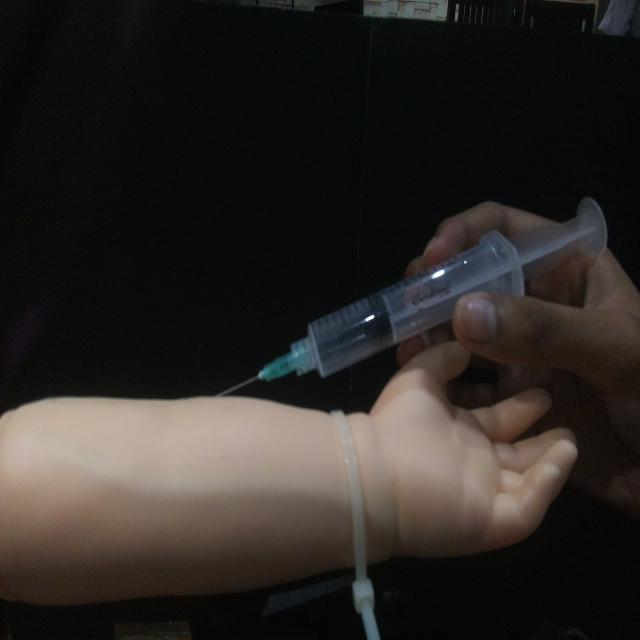19deg: (213, 192, 610, 399)
